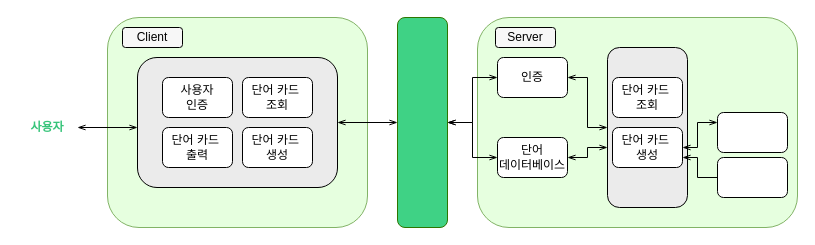
Some shapes in this 815 by 245 pixel diagram are drawn without their labels. The centre of each missing label's shape, as x and y in pixels:
"단어 선정" belongs at point 752,132.
"이미지 생성" belongs at point 752,177.
"통신" belongs at point 422,122.
